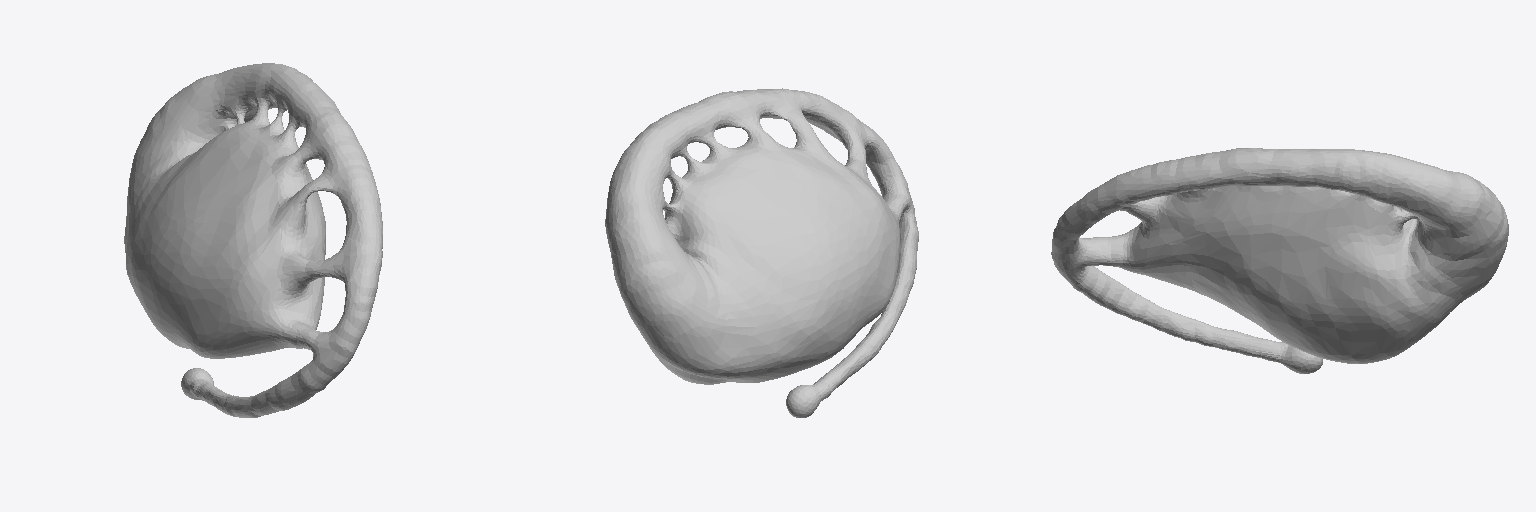
File: leftstriatum.obj
3 renders of one model, left to right at view 1: azimuth 30°, elevation 25°; view 2: azimuth 150°, elevation 25°; view 3: azimuth 270°, elevation 25°, orthographic.
Parts seen in each view (by area): view 1: Group6799; view 2: Group6799; view 3: Group6799.
Boxes of the visible parts, x1=… form: Group6799: x1=124, y1=63, x2=382, y2=417; Group6799: x1=605, y1=88, x2=918, y2=417; Group6799: x1=1051, y1=148, x2=1508, y2=373.
Bounding box in the file's own units: 7 × 10.17 × 15.06.